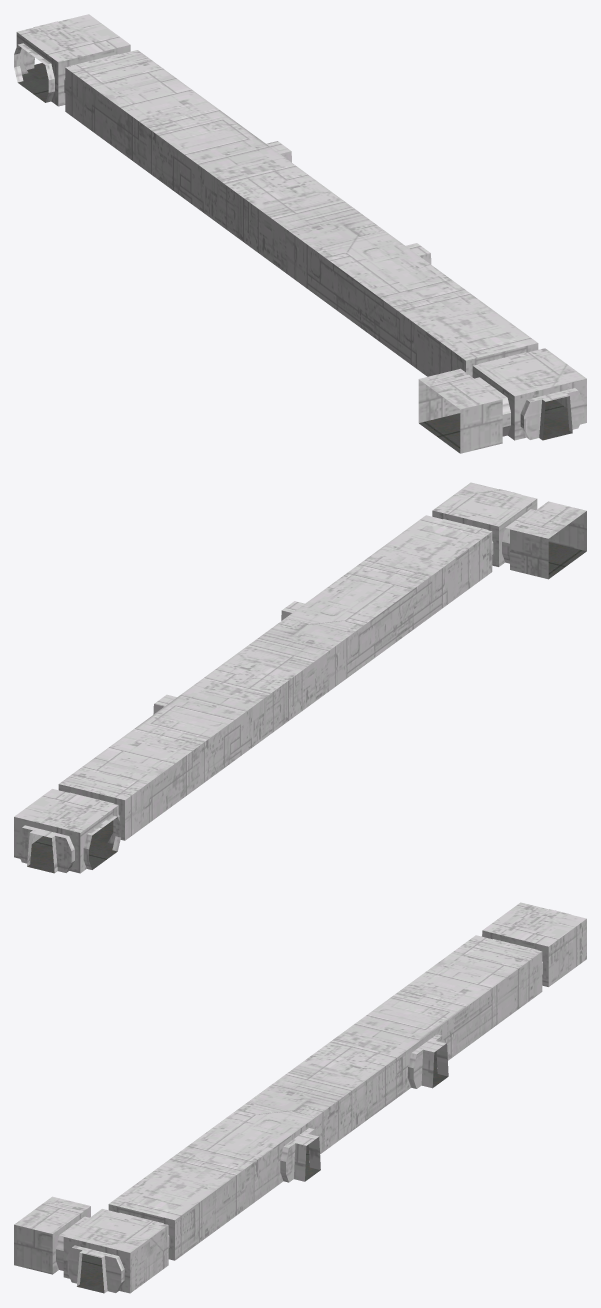
File: thm_spc_star_destroyer_s01_r15_hallway03_mesh_r15.fbx
3 renders of one model, top to bottom at view 1: azimuth 30°, elevation 25°; view 2: azimuth 150°, elevation 25°; view 3: azimuth 330°, elevation 25°, orthographic. The views are drawn at different scales.
Visible parts, largest first — view 1: mesh_node; view 2: mesh_node; view 3: mesh_node.
Part boxes in pixels (bbox=[...]): mesh_node: bbox=[14, 14, 586, 453]; mesh_node: bbox=[14, 482, 586, 873]; mesh_node: bbox=[14, 902, 586, 1293].
Bounding box in the file's own units: 12 × 3.5 × 73.5.
Materials: 2 (2 with a texture image).
